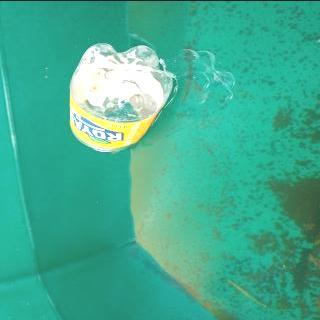bottle: (68, 41, 175, 153)
